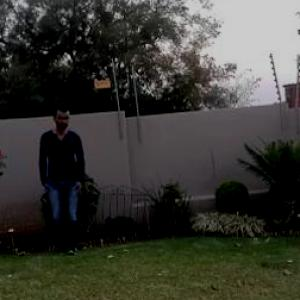follow: (37, 102, 92, 256)
